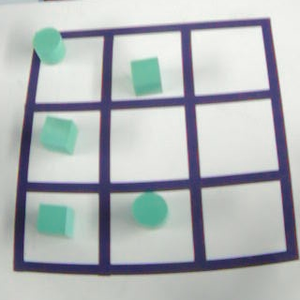cube: (28, 197, 86, 245), (33, 110, 86, 160), (124, 52, 172, 100)
cylinder: (122, 189, 176, 234), (26, 26, 74, 70)
empty: (194, 179, 293, 263), (189, 97, 284, 182), (103, 102, 196, 188), (184, 23, 276, 99)
